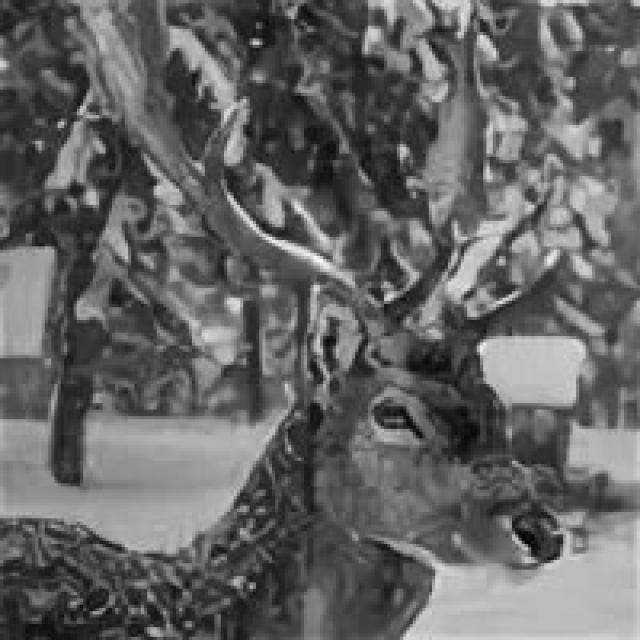Deer: (0, 63, 620, 639)
